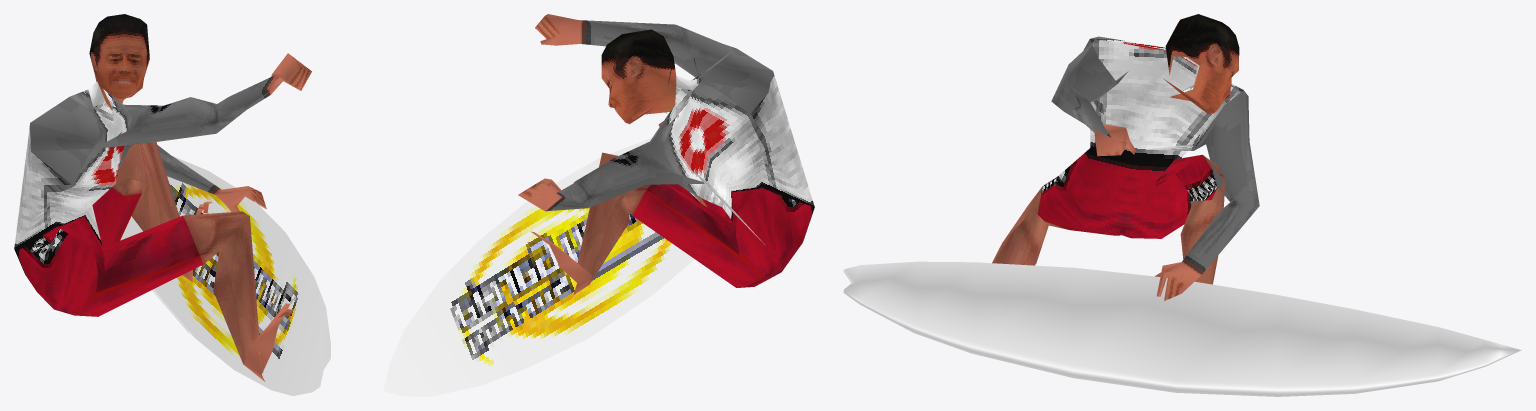
The model's file is ps2_save-icons_sunnygarciasurfing.glb.
3 renders of one model, left to right at view 1: azimuth 30°, elevation 25°; view 2: azimuth 150°, elevation 25°; view 3: azimuth 270°, elevation 25°, orthographic. The views are drawn at different scales.
Parts seen in each view (by area): view 1: LIST.ICN; view 2: LIST.ICN; view 3: LIST.ICN.
Part boxes in pixels (x1,y1,x2,y2): LIST.ICN: [14, 14, 330, 395]; LIST.ICN: [383, 14, 814, 396]; LIST.ICN: [843, 14, 1521, 396].
Size of the model in its own units: 2.21 by 2.56 by 4.6.
Materials: 1 (1 with a texture image).
